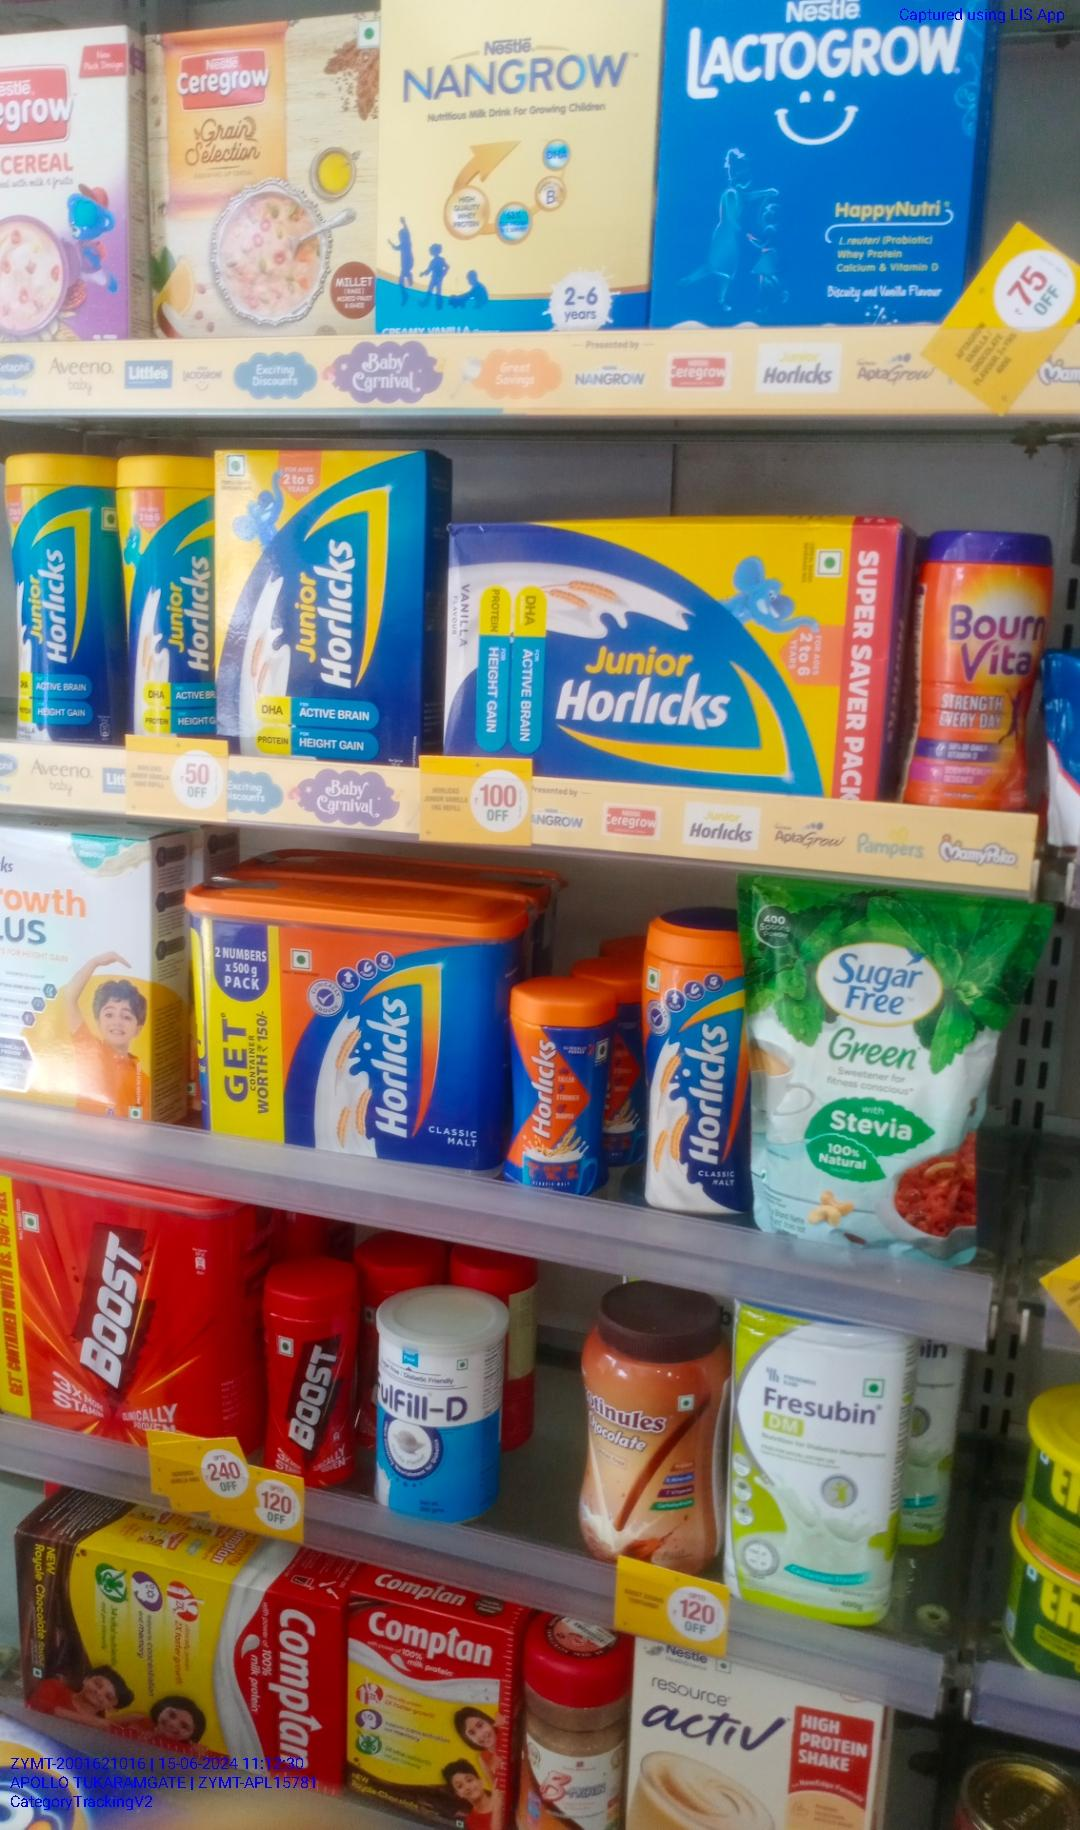BOURN_VITA_500_G_JAR: (904, 522, 1039, 812)
COMPLAN_CHOCOLATE_200_GMS_PACK: (354, 1606, 512, 1830)
HORLICK_CLASSIC_MALT_200_G_JAR: (507, 988, 612, 1191)
HORLICK_CLASSIC_MALT_500_G_JAR: (638, 915, 747, 1214)
